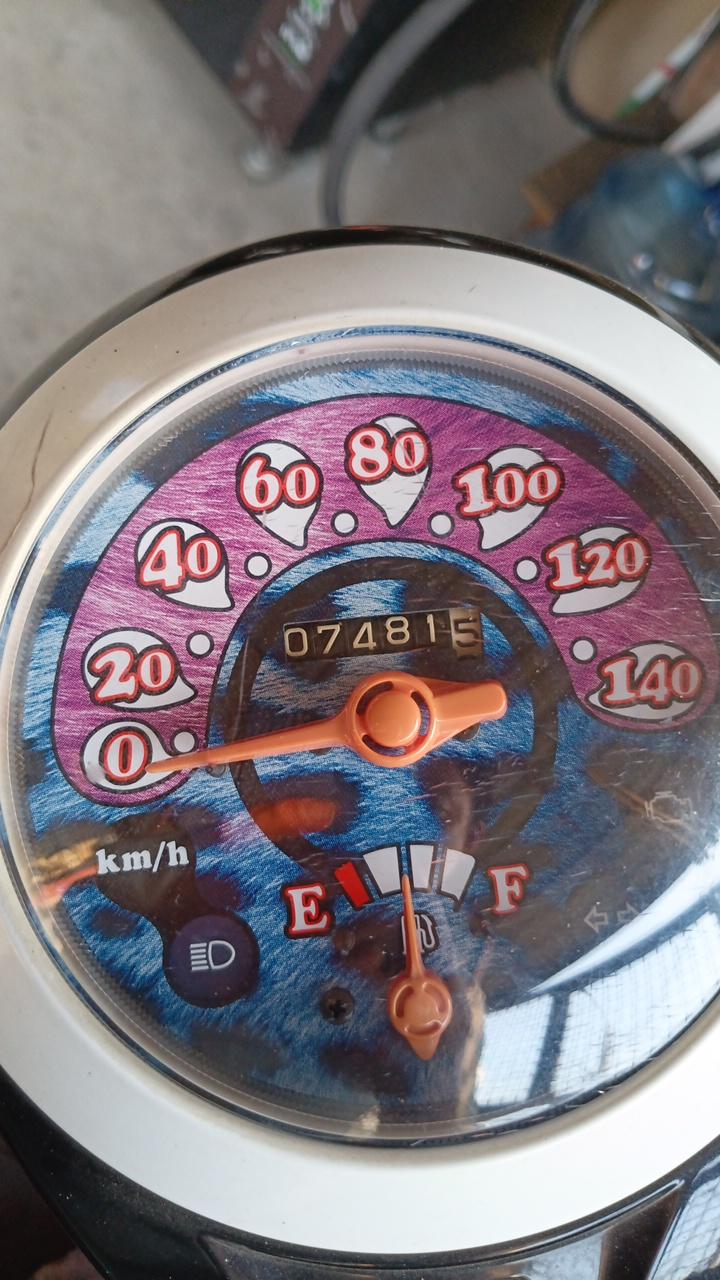0: (284, 627, 309, 658)
1: (425, 612, 436, 643)
4: (352, 621, 376, 651)
5: (453, 615, 479, 648)
7: (317, 623, 341, 656)
8: (386, 616, 411, 645)
odometer: (282, 606, 487, 671)
